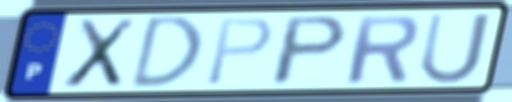D: (127, 13, 206, 92)
P: (266, 13, 352, 88), (202, 15, 276, 88)
R: (344, 13, 422, 86)
U: (416, 10, 494, 86)
X: (59, 16, 140, 92)
